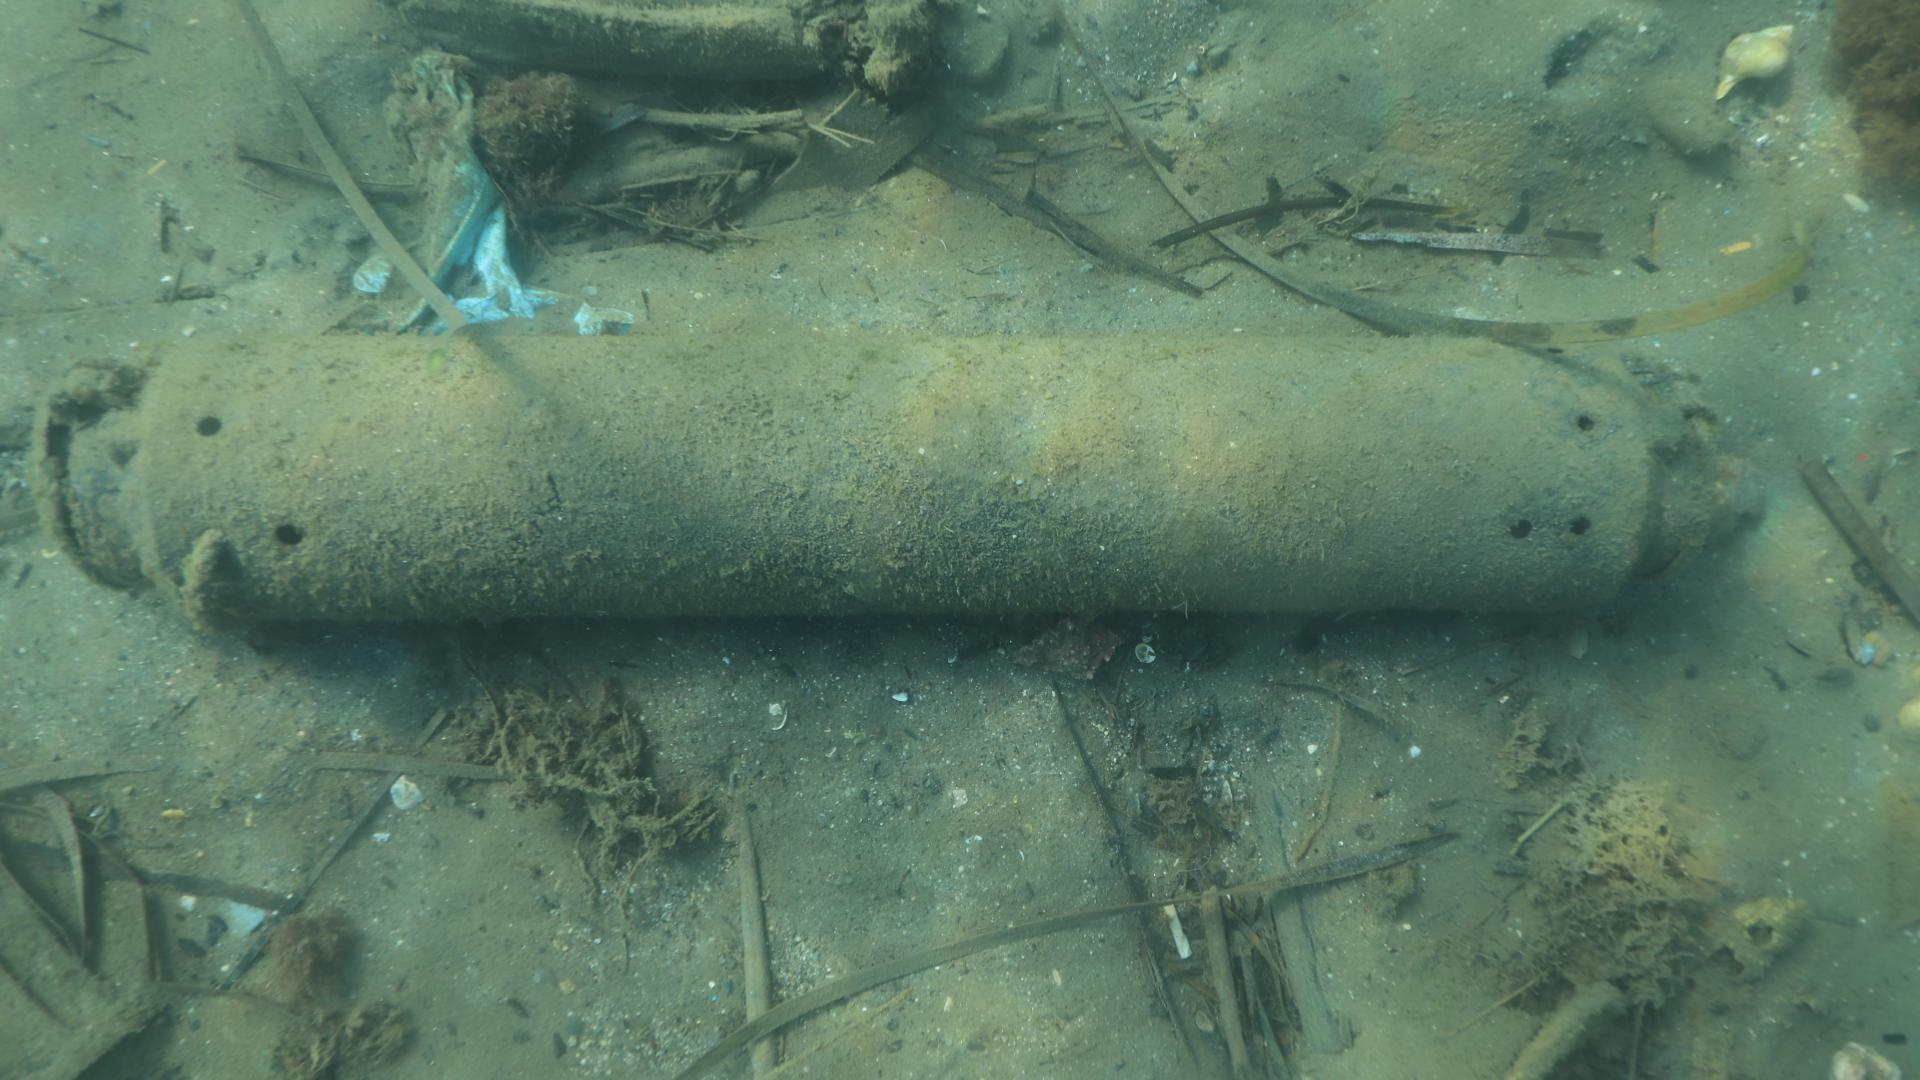eel fish trap: (33, 311, 1762, 611)
